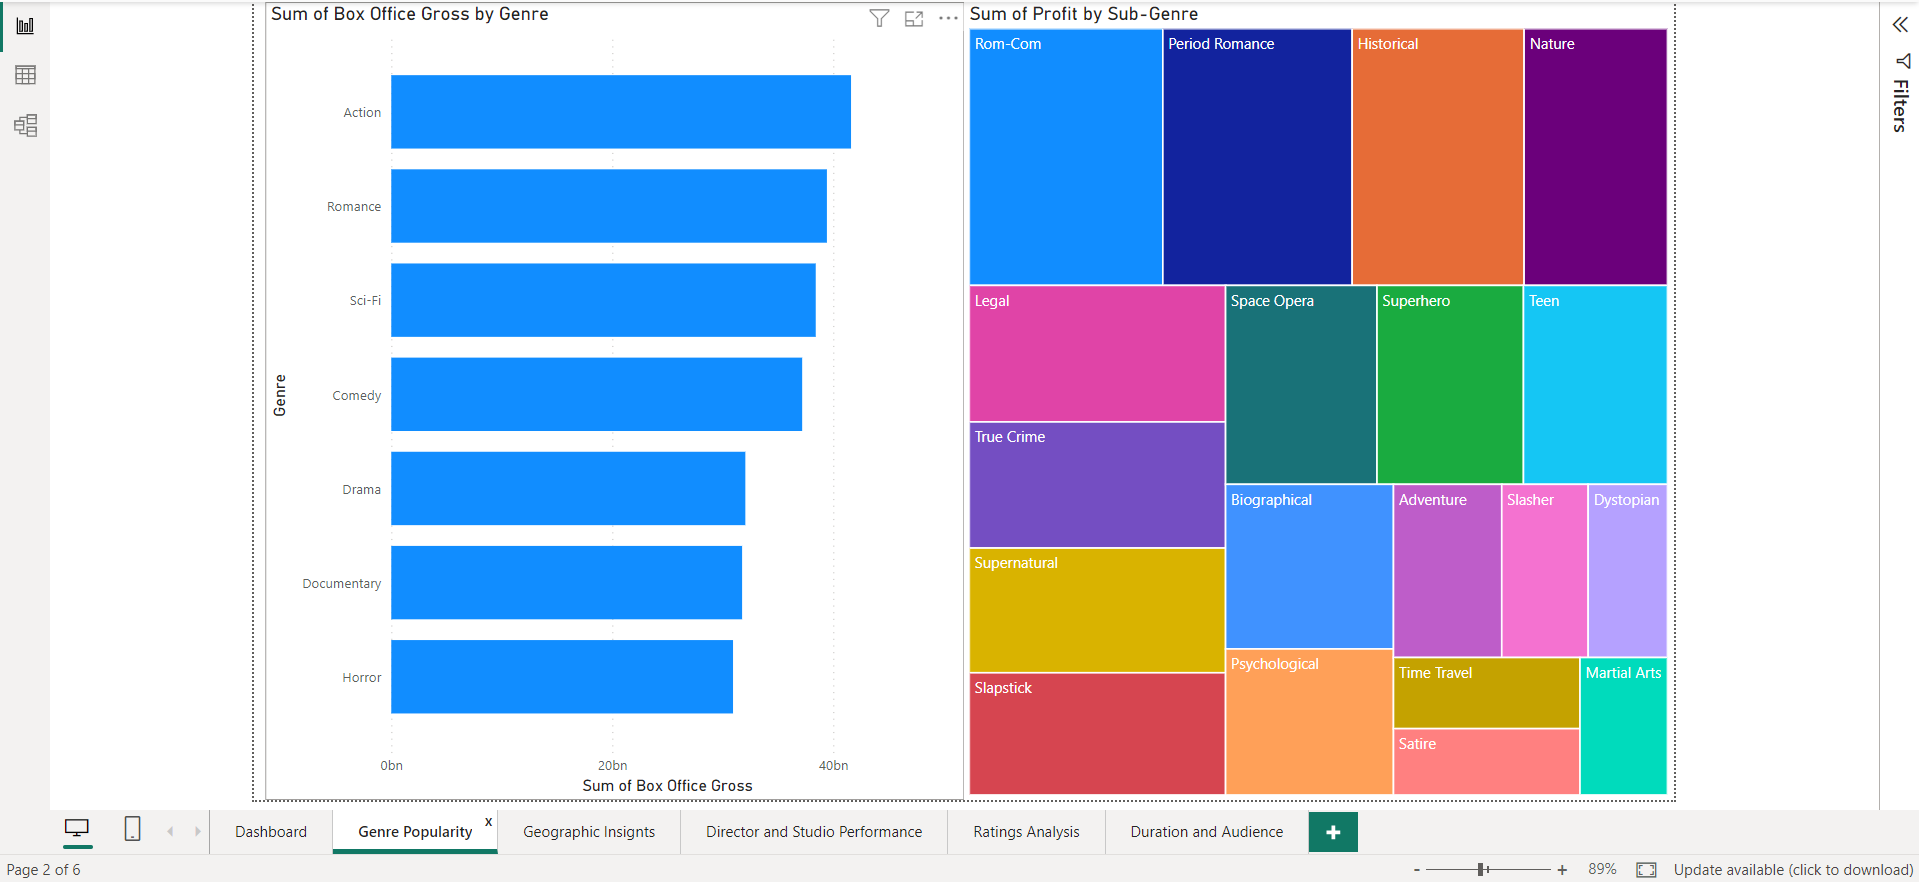

The page's visual inventory and layout, read from the dashboard file:
{"tool":"powerbi","page":{"name":"Genre Popularity","canvas":[1280,720],"ordinal":1},"visuals":[{"type":"barChart","fields":{"Category":["global_movie_dataset.Genre"],"Y":["Sum(global_movie_dataset.Box Office Gross)"]},"box":[9.8,0,630.8,720],"z":0},{"type":"treemap","fields":{"Group":["global_movie_dataset.Sub-Genre"],"Values":["Sum(global_movie_dataset.Profit)"]},"box":[640.5,0,639.3,720],"z":1000}]}

Visuals, with their boxes on the page's 1280x720 design canvas (x1, y1, x2, y2). These are canvas units, not pixel positions in the 1919x882 screenshot, which may show the page scaled, cropped or inside an application window:
barChart - global_movie_dataset.Genre x Sum(global_movie_dataset.Box Office Gross): 10:0:641:720
treemap - global_movie_dataset.Sub-Genre x Sum(global_movie_dataset.Profit): 640:0:1280:720
